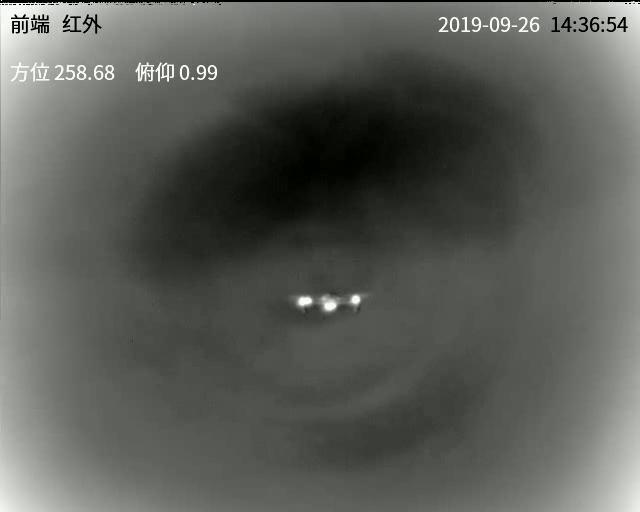DRONE: (295, 293, 364, 320)
